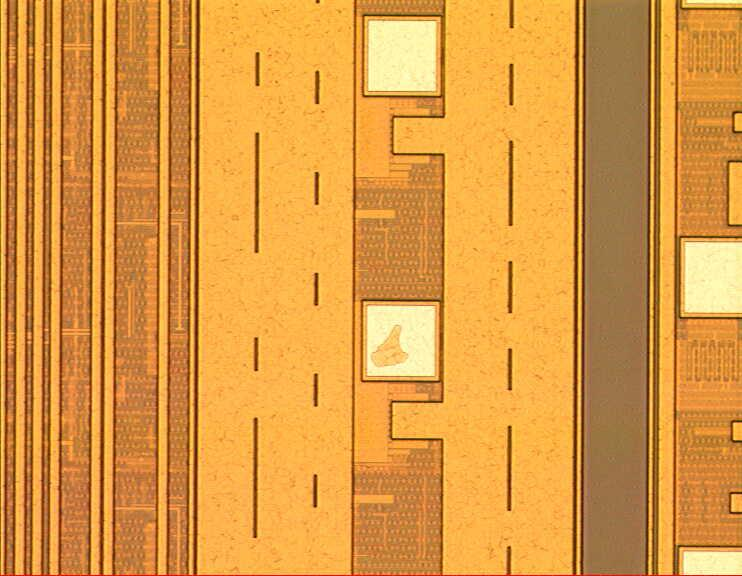BLOCK ETCH: (368, 323, 413, 371)
